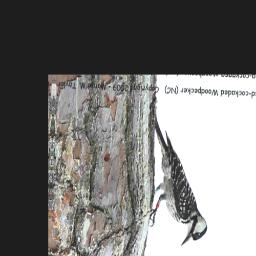Woodpecker: (146, 105, 213, 248)
